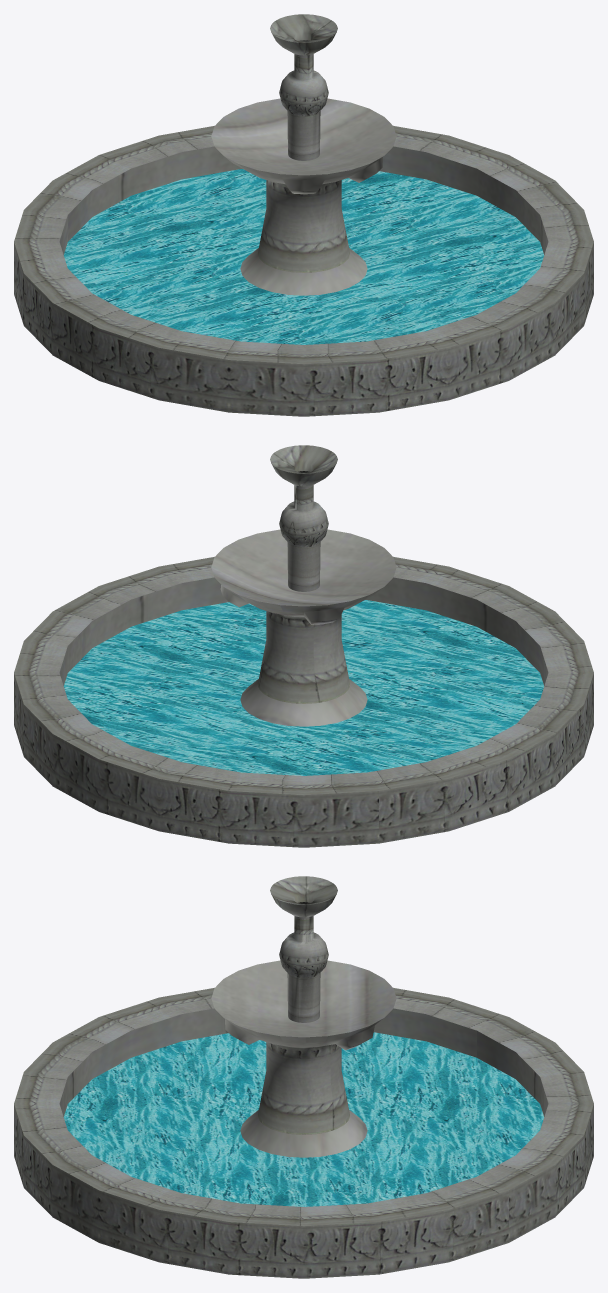
Rendered from Fountain01.gltf.
3 views of the same model, one above another, from view 1: azimuth 30°, elevation 25°; view 2: azimuth 150°, elevation 25°; view 3: azimuth 270°, elevation 25° (orthographic).
Visible parts, largest first — view 1: Fountain, Water; view 2: Fountain, Water; view 3: Fountain, Water.
Part boxes in pixels (x1,y1,x2,y2): Fountain: (14, 14, 593, 416); Water: (63, 169, 544, 344); Fountain: (14, 445, 593, 847); Water: (63, 600, 544, 775); Fountain: (14, 876, 593, 1278); Water: (63, 1032, 544, 1206).
Bounding box in the file's own units: 14.3 × 7.23 × 14.3.
Materials: 2 (2 with a texture image).
